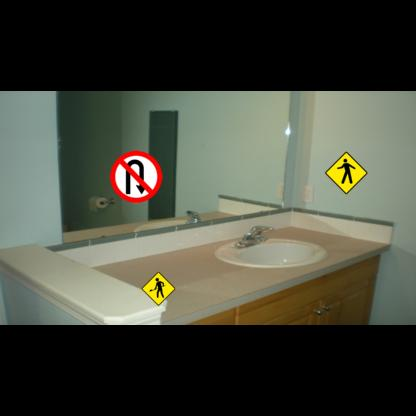A-24: (141, 271, 176, 306)
A-32a: (325, 151, 368, 194)
